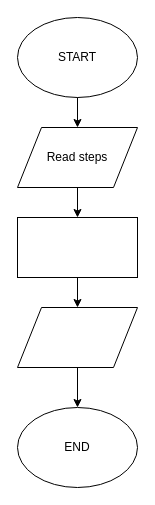
The diagram is 155 pixels wide and 505 high, and some of its shapes have lost their labels. The centre of each missing label's shape, as x and y in pixels:
"M=(steps*2.5)/5280" goes at pixel 77 247.
"Print steps" goes at pixel 77 337.
